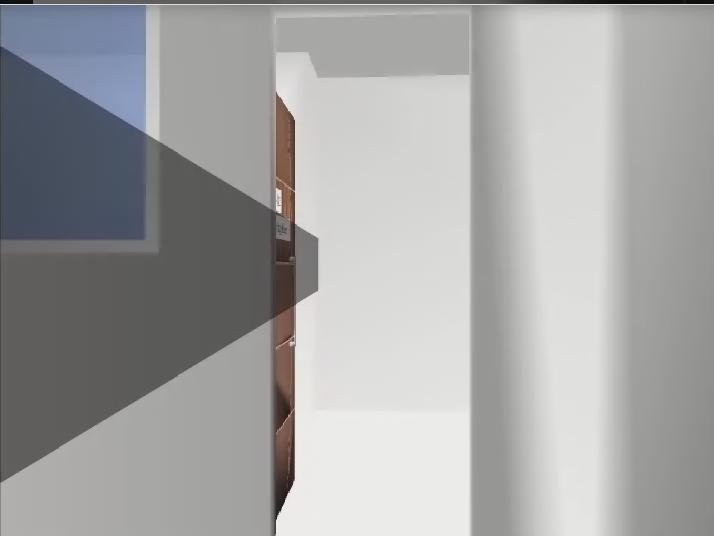door: (276, 91, 296, 519)
